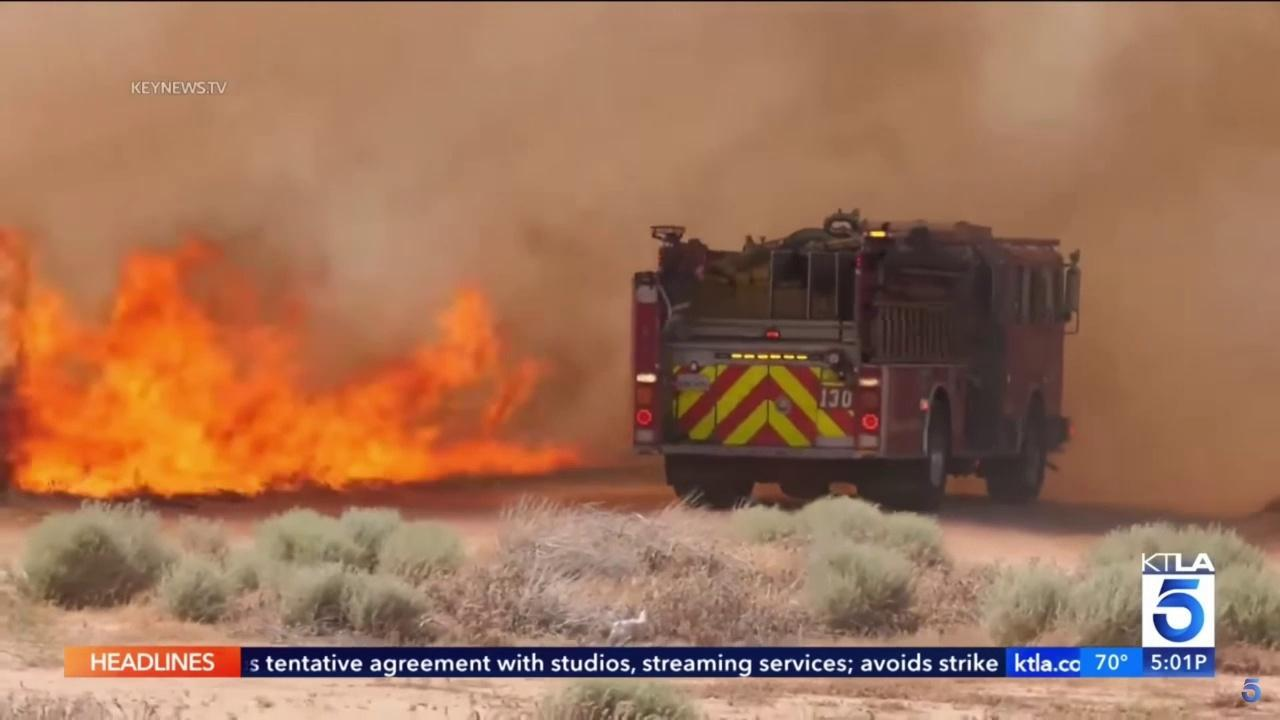fire: (0, 218, 596, 490)
smoke: (0, 0, 1280, 526)
